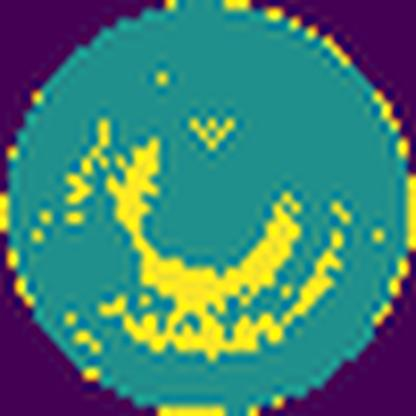Donut: (52, 67, 360, 365)
